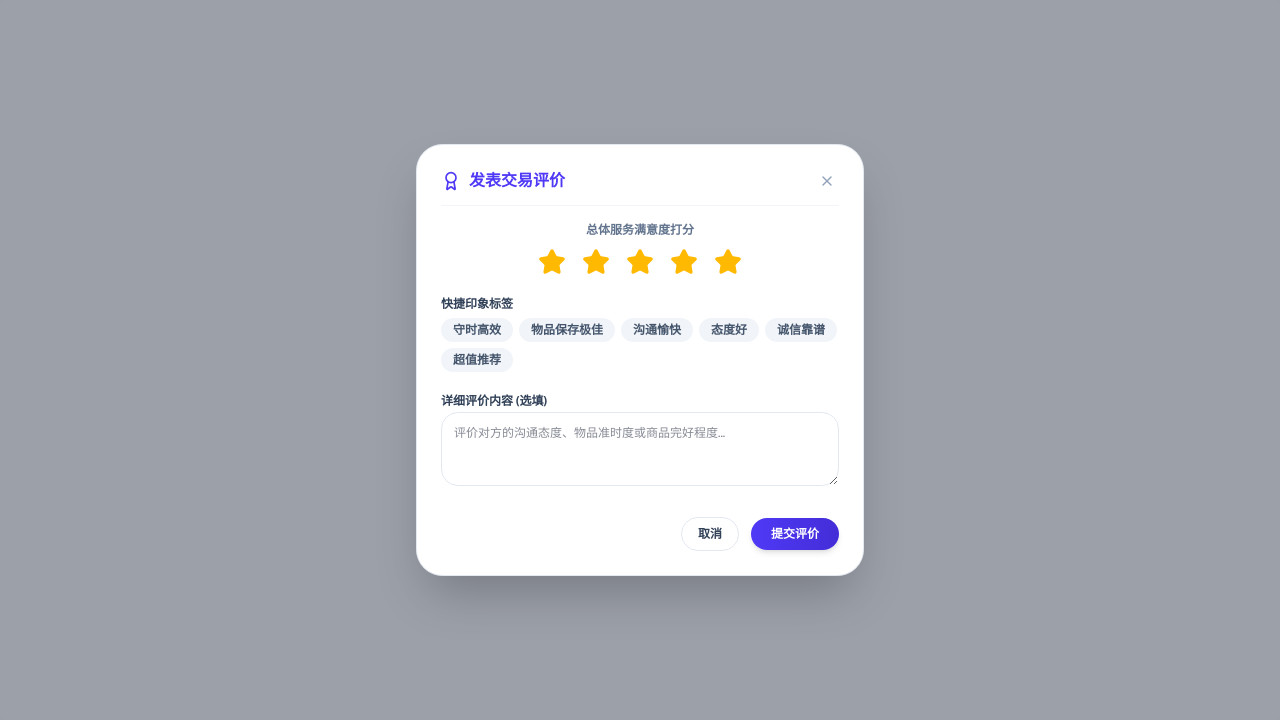
ReviewDialog › shows the error message with role=alert when submitting fails
The width and height of the screenshot is (1280, 720).
Click the button "提交评价" at (795, 534), box [751, 518, 839, 550]
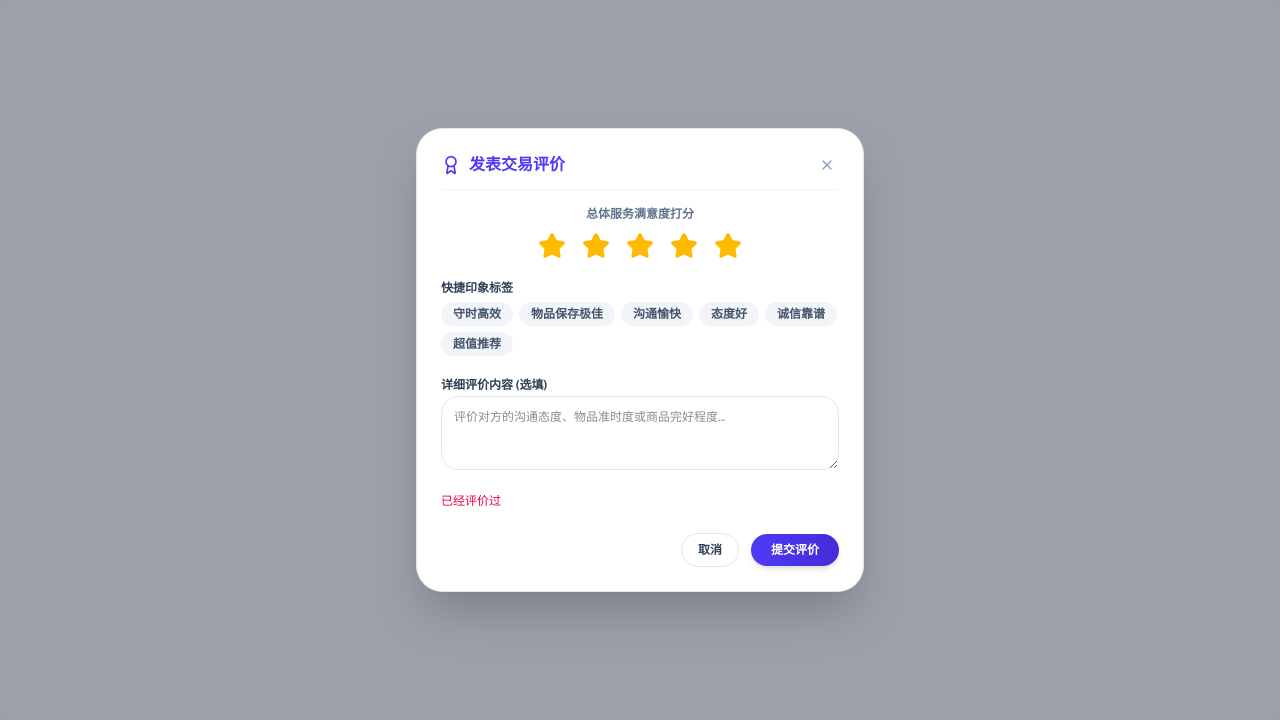
Expected: the message reads "已经评价过", [441, 493, 501, 509]
